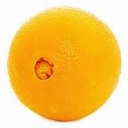orange: (7, 7, 124, 122)
